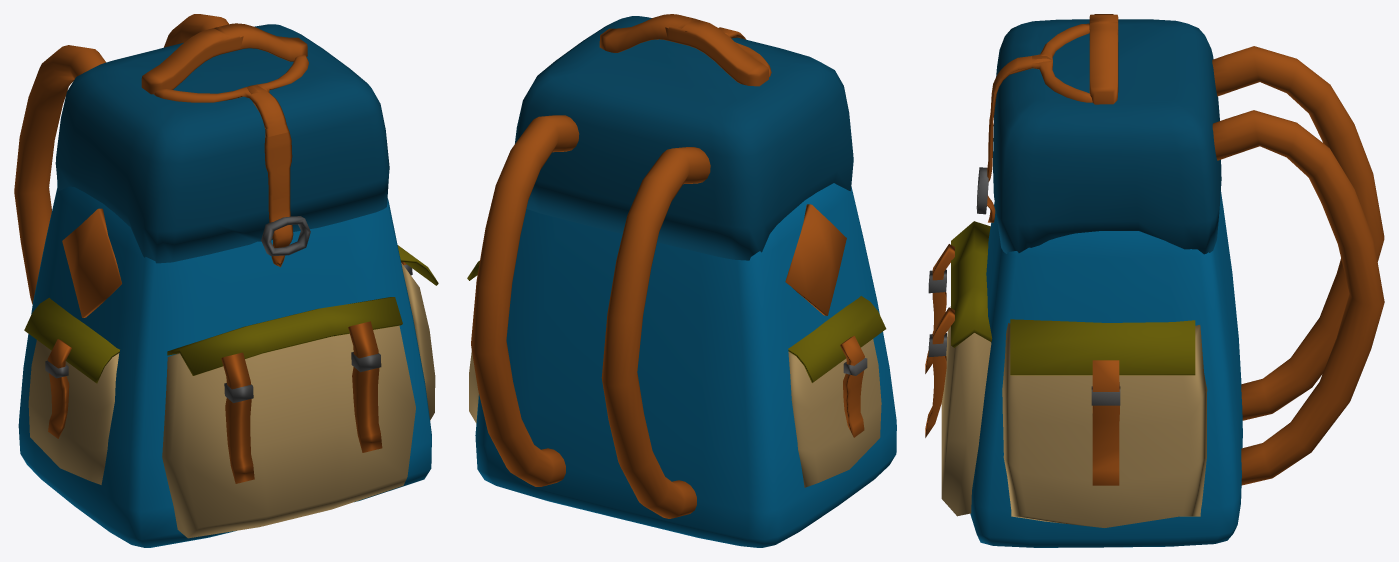
Rendered from backpack.fbx.
3 views of the same model, side by side, from view 1: azimuth 30°, elevation 25°; view 2: azimuth 150°, elevation 25°; view 3: azimuth 270°, elevation 25° (orthographic). The views are drawn at different scales.
Visible parts, largest first — view 1: ÇANTA; view 2: ÇANTA; view 3: ÇANTA.
Part boxes in pixels (box(x1,y1,x2,y2)): ÇANTA: box(14, 14, 438, 547); ÇANTA: box(467, 14, 896, 547); ÇANTA: box(925, 14, 1384, 547).
Size of the model in its own units: 332 by 399 by 362.
